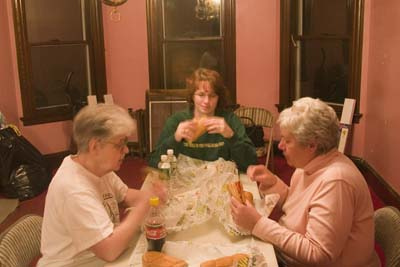without_mask: (276, 115, 330, 170), (80, 119, 134, 174), (191, 78, 222, 117)
